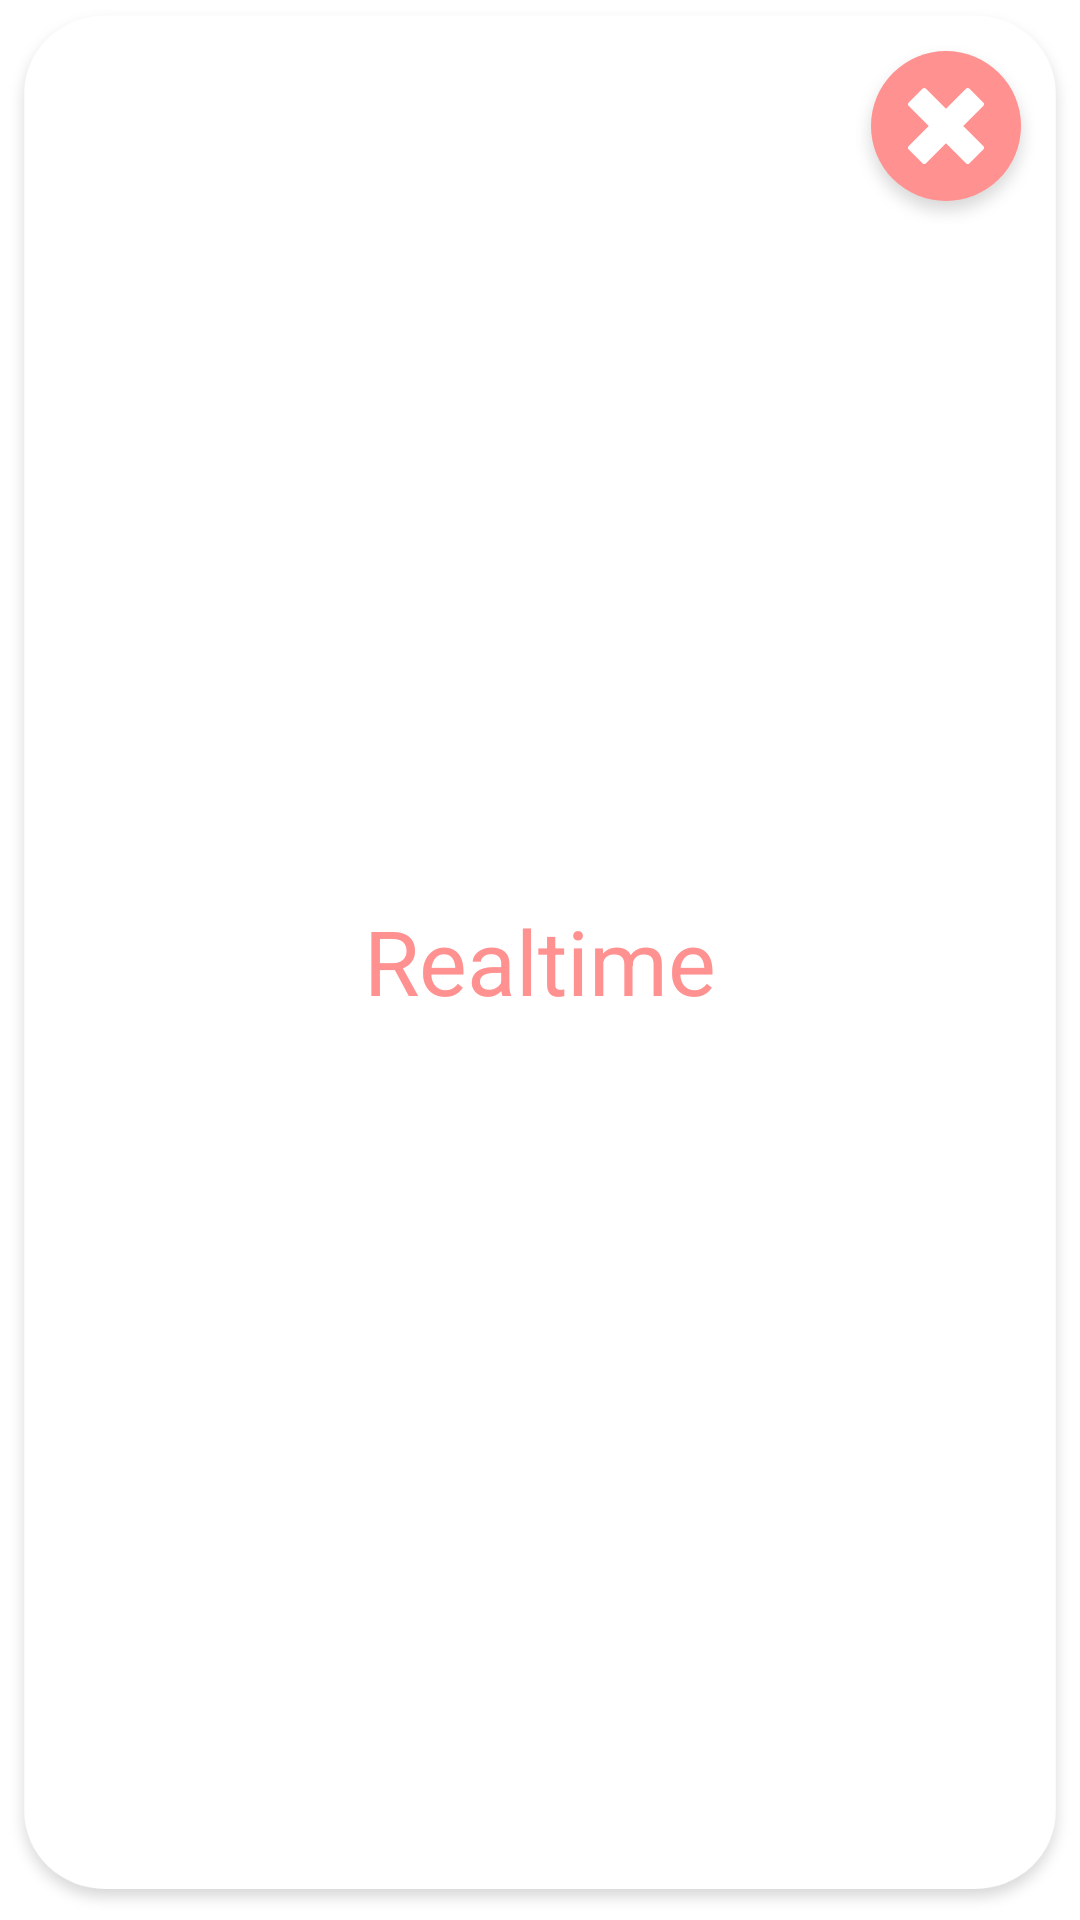

Named icons in this screenshot (1080×1920) and their centers, [x,y]:
exit: [946,129]
